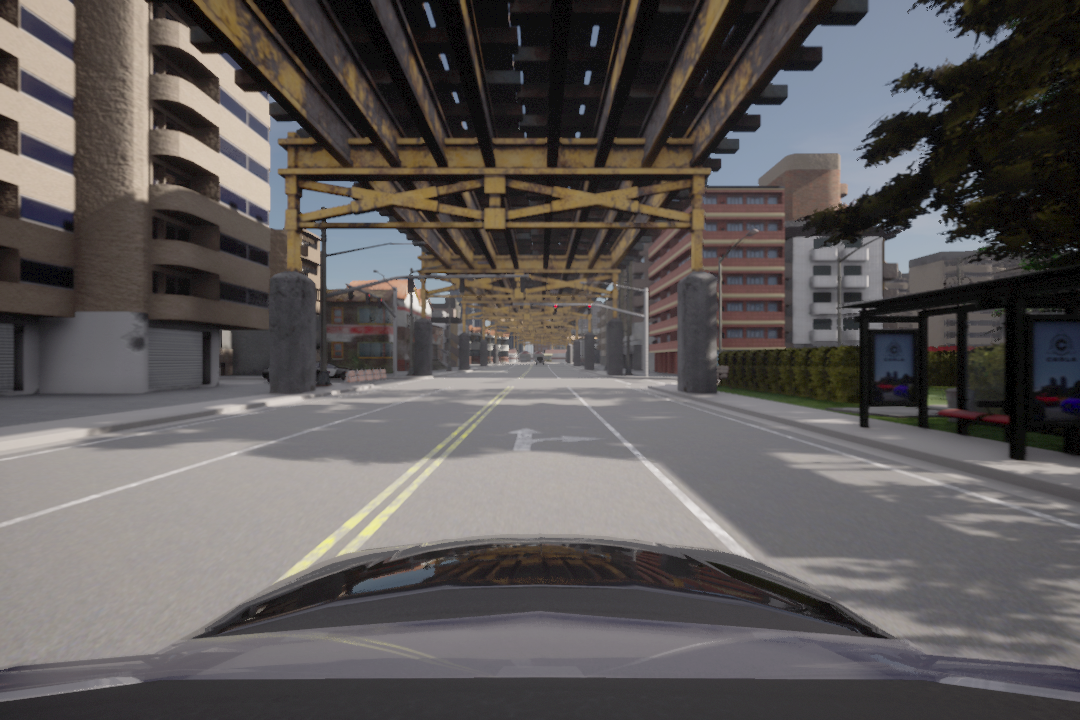RoadSign_forward_right: (505, 423, 600, 456)
